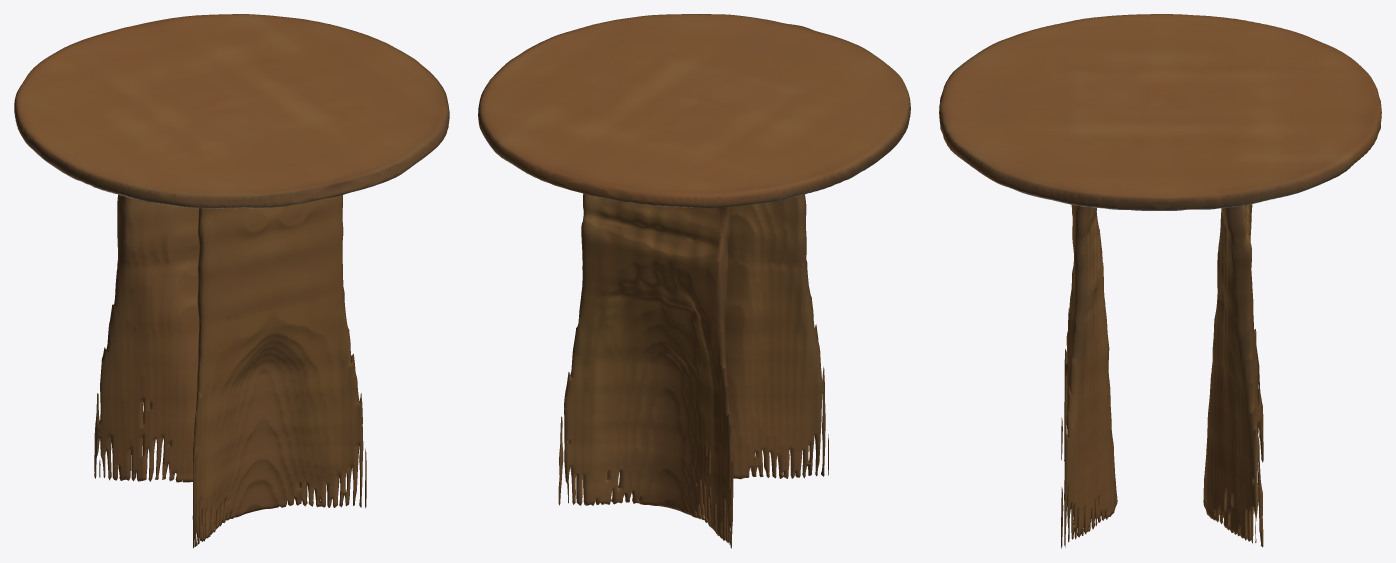
Rendered from A tan tear drop shaped wooden table with a grey cu.glb.
3 renders of one model, left to right at view 1: azimuth 30°, elevation 25°; view 2: azimuth 150°, elevation 25°; view 3: azimuth 270°, elevation 25°, orthographic. The views are drawn at different scales.
Parts seen in each view (by area): view 1: A tan tear drop shaped wooden table with a grey cu; view 2: A tan tear drop shaped wooden table with a grey cu; view 3: A tan tear drop shaped wooden table with a grey cu.
Part boxes in pixels (x1,y1,x2,y2): A tan tear drop shaped wooden table with a grey cu: (14, 14, 449, 548); A tan tear drop shaped wooden table with a grey cu: (478, 14, 910, 548); A tan tear drop shaped wooden table with a grey cu: (939, 14, 1381, 548).
Size of the model in its own units: 1.97 by 1.98 by 1.98.
